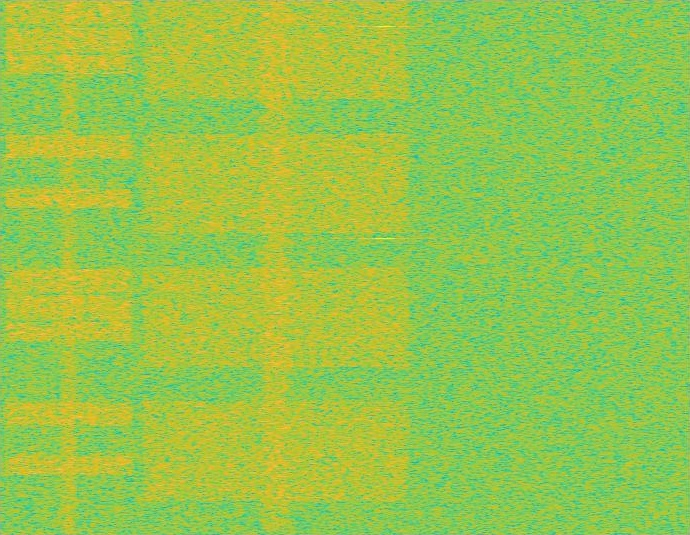5G: (138, 0, 414, 534)
DSSS: (257, 0, 295, 534), (60, 0, 78, 534)
LTE: (0, 0, 138, 534)
Radar: (377, 0, 391, 534)
